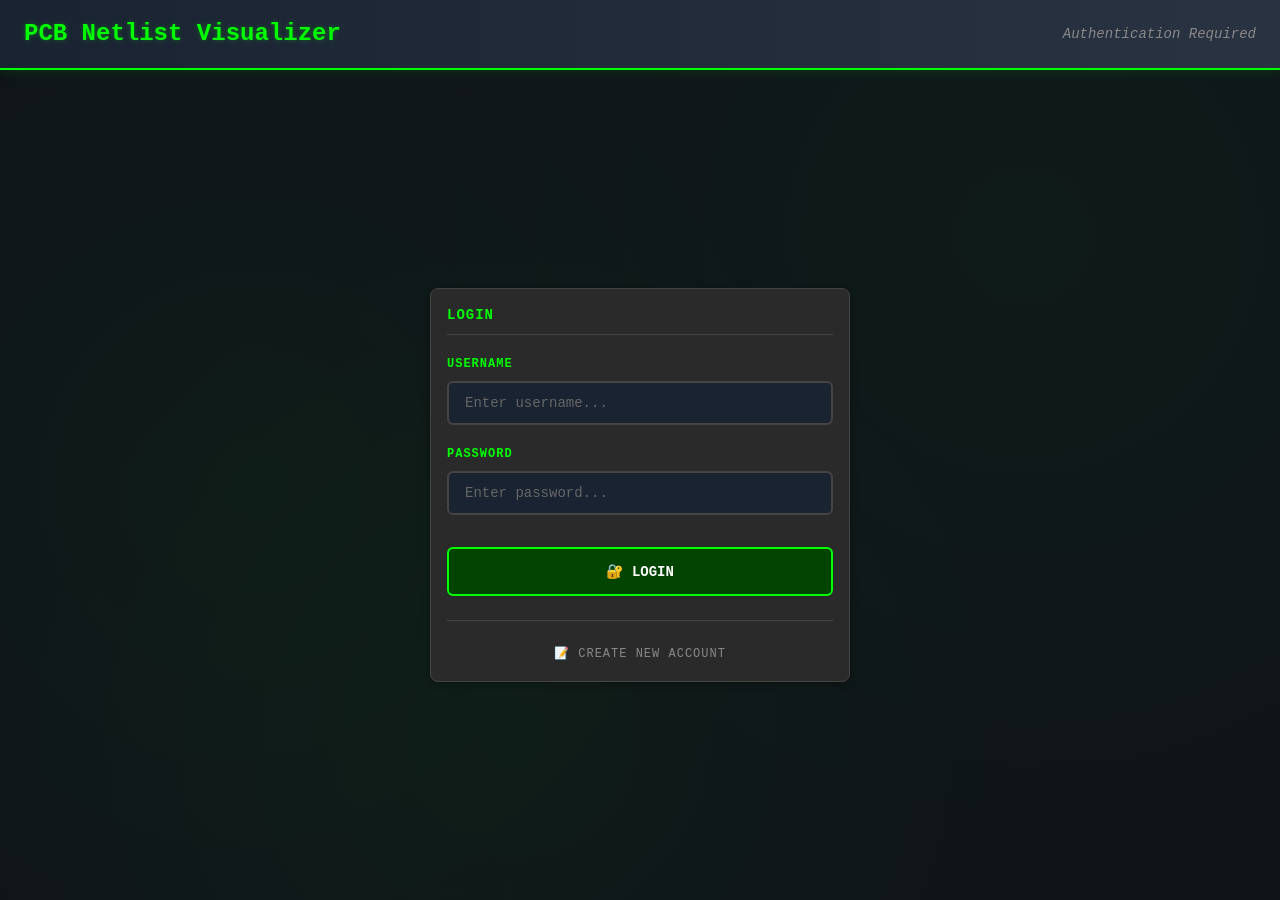
Test: LoginPage › should display error message and clear password on login failure
Type "testuser" into the field with placeholder "Enter username..." at (640, 403), box [447, 381, 833, 425]
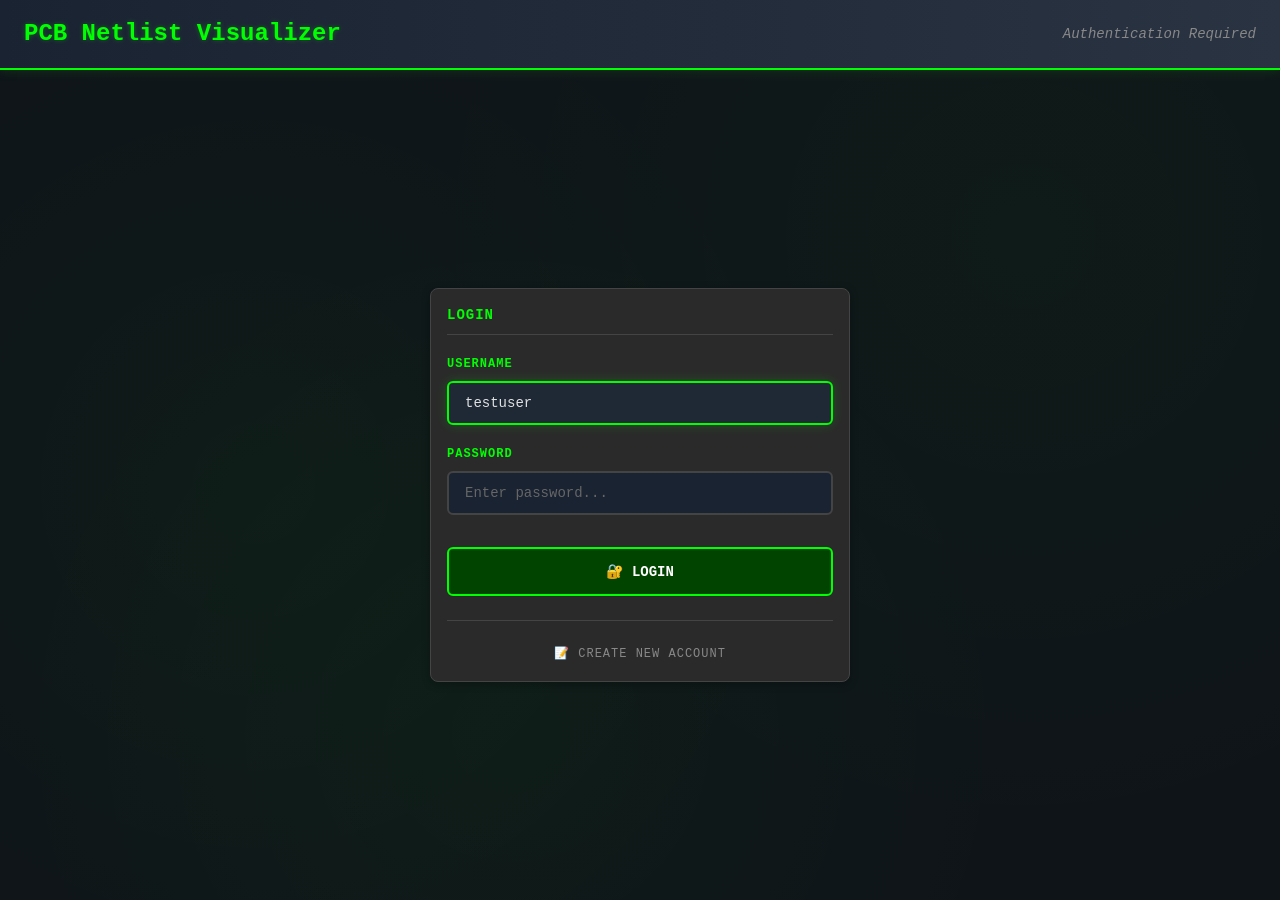
Type "wrongpass" into the password field with placeholder "Enter password..." at (640, 493), box [447, 471, 833, 515]
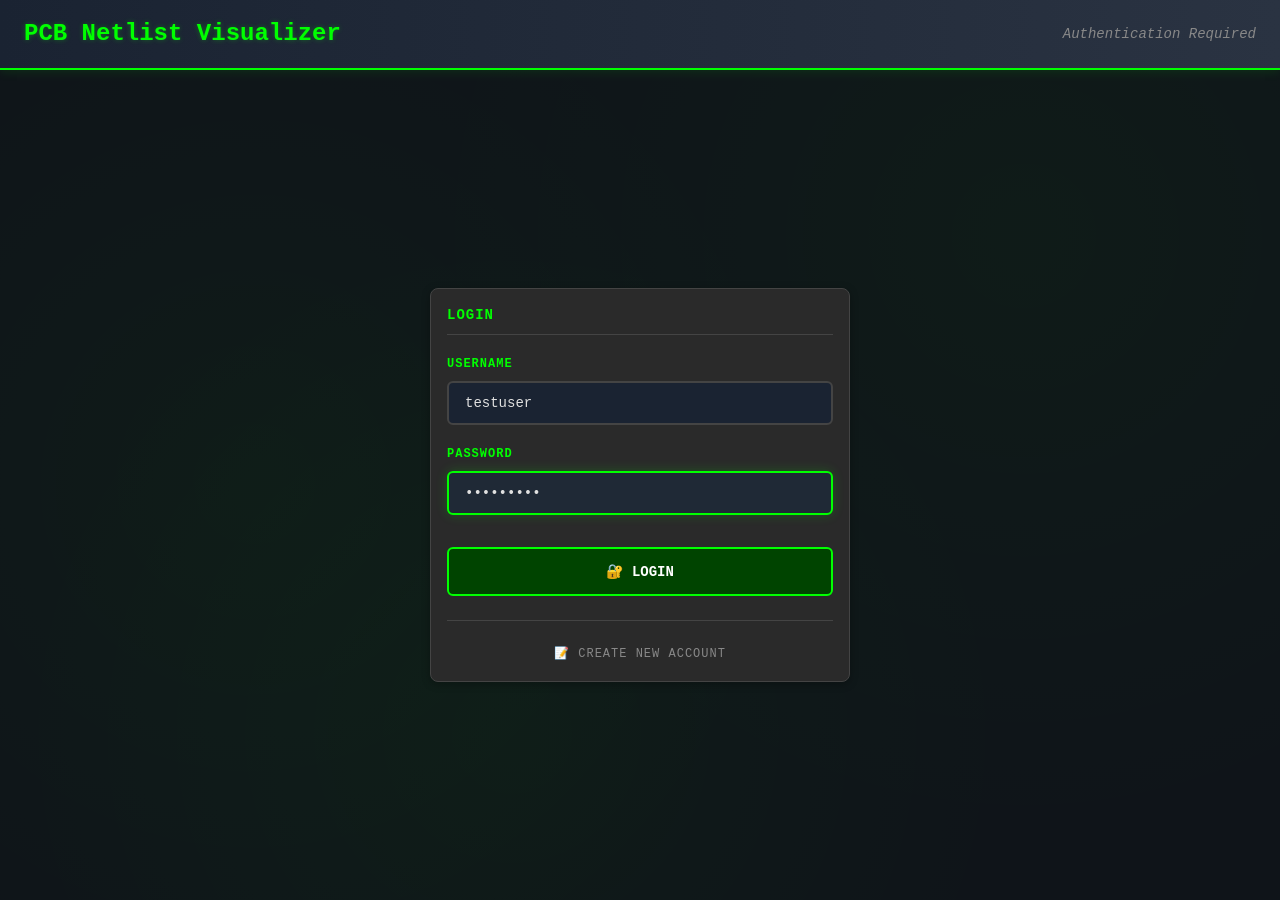
Click the button "🔐 Login" at (640, 572), box [447, 547, 833, 596]
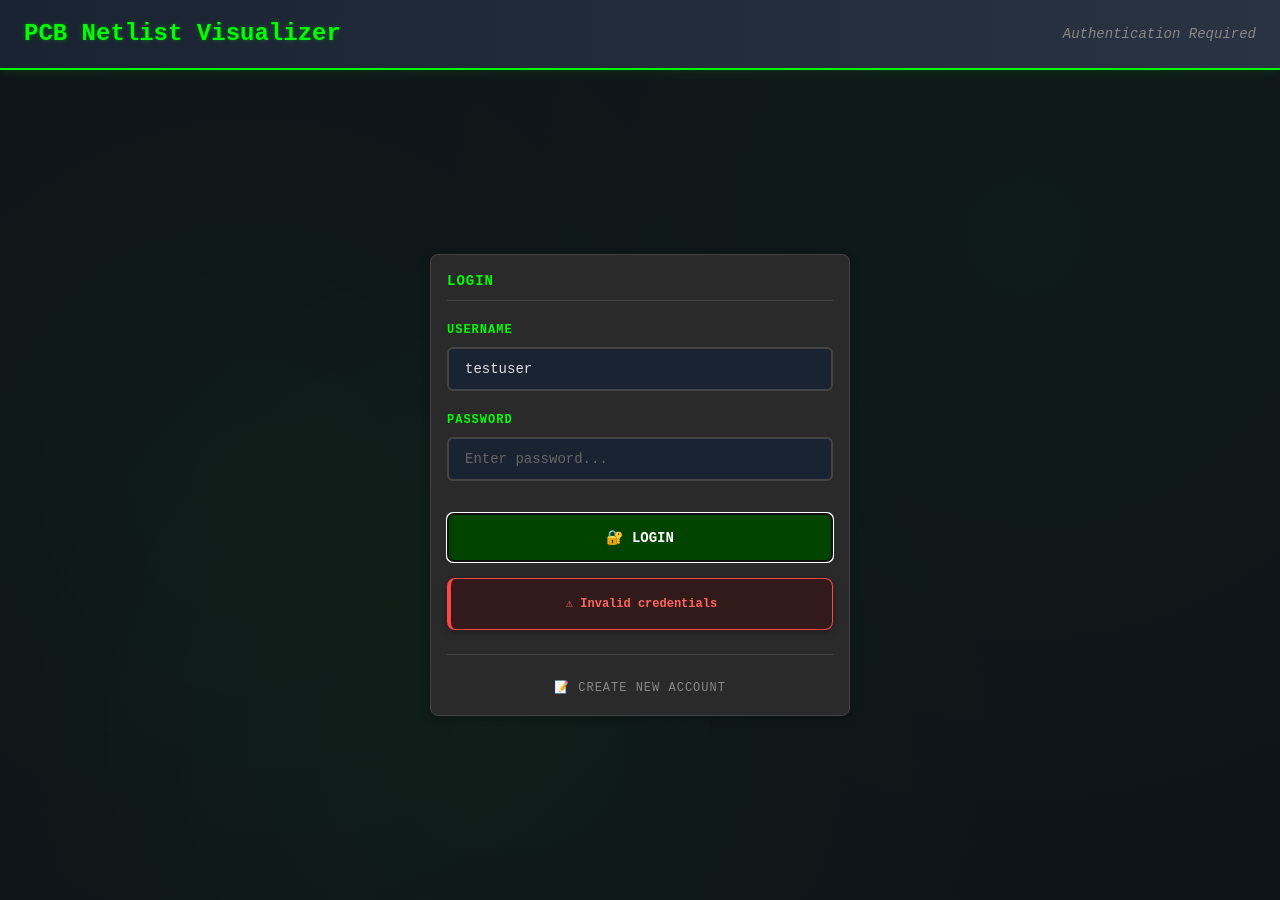
Check: the text "⚠ Invalid credentials" is shown, box [566, 597, 717, 611]
Check: the password field with placeholder "Enter password..." is empty, box [447, 437, 833, 481]
